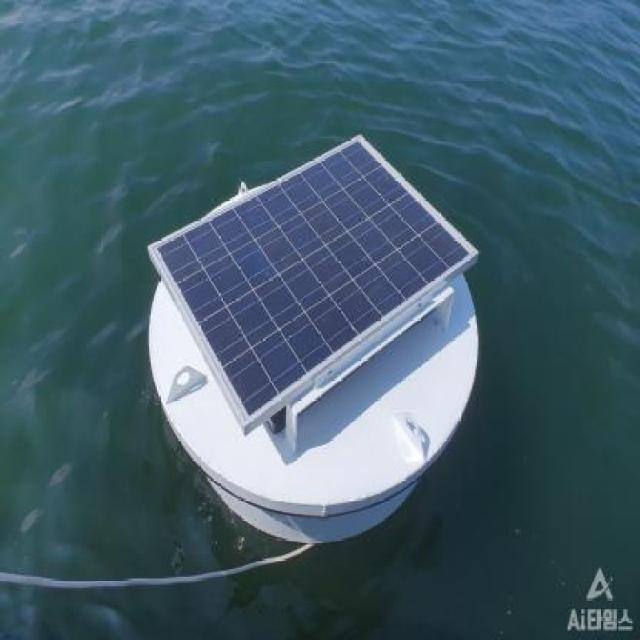a: (120, 119, 496, 553)
